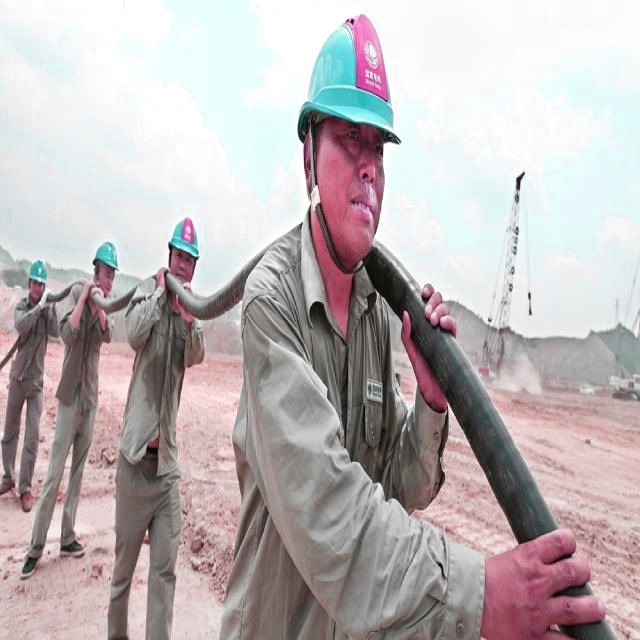Con_Casco: (305, 13, 399, 251), (169, 215, 199, 289), (93, 240, 117, 296)
